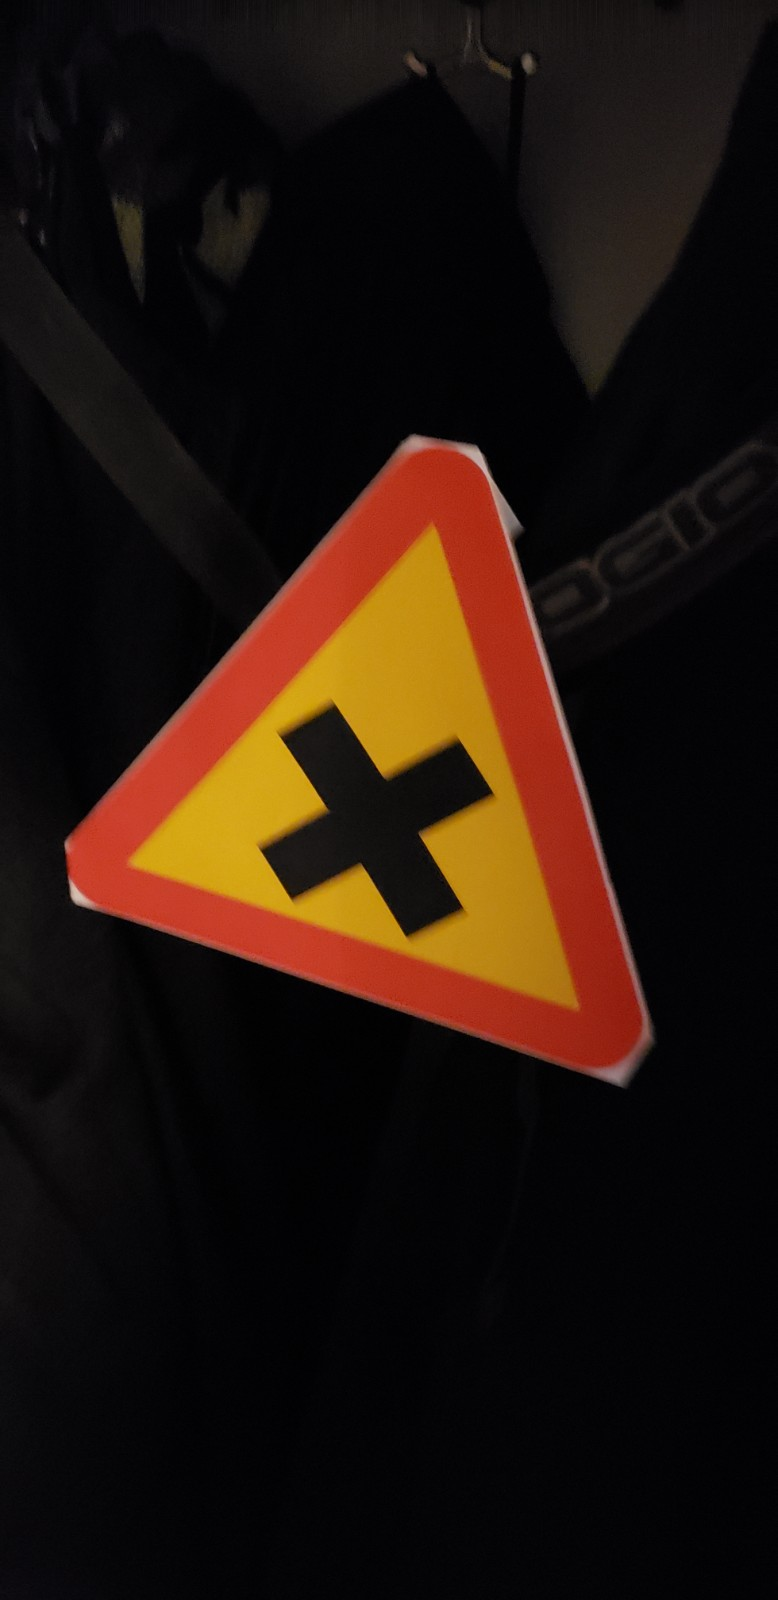junction: (1, 370, 715, 1155)
